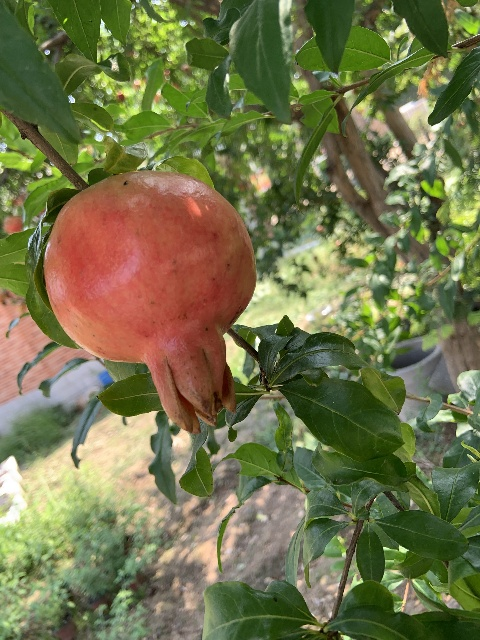ripe: (43, 170, 258, 431)
